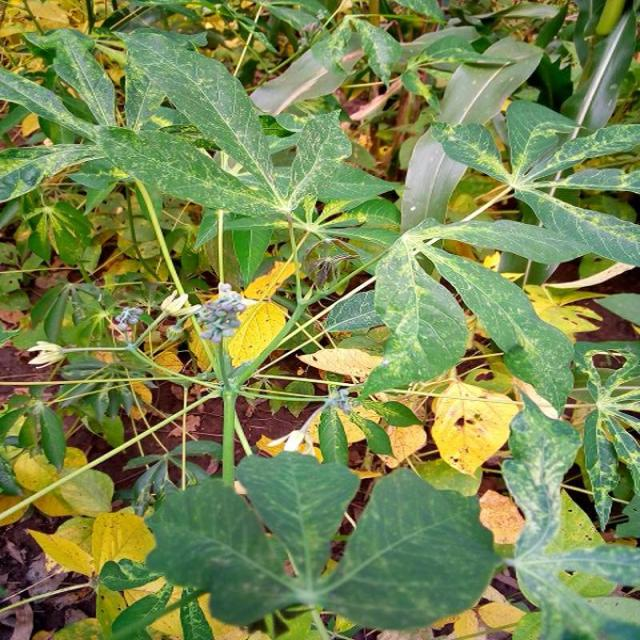cassava leaf: (2, 4, 640, 637), (321, 465, 505, 630)
